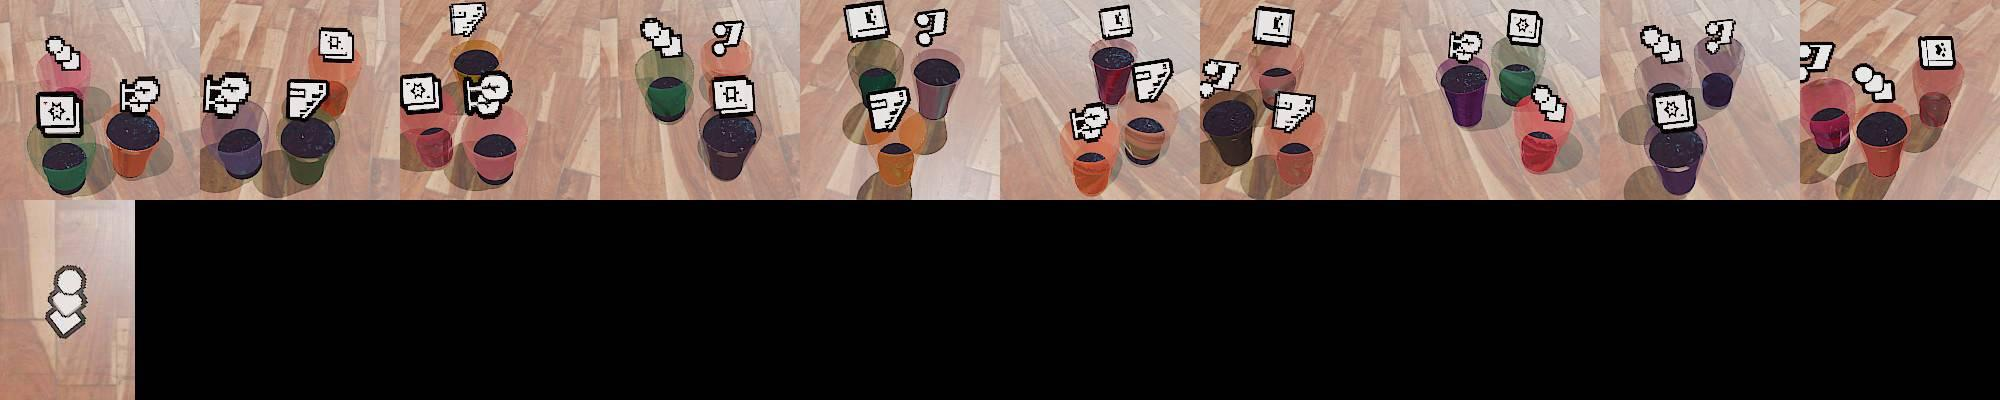icon: (45, 264, 87, 340), (462, 70, 513, 117), (202, 71, 253, 117), (865, 84, 909, 132), (1269, 89, 1316, 134), (36, 92, 82, 136), (638, 17, 684, 60), (399, 73, 443, 117), (1652, 89, 1698, 131), (843, 1, 889, 43), (1131, 57, 1173, 103), (1639, 24, 1684, 66), (286, 78, 329, 120), (710, 75, 755, 116), (1852, 62, 1897, 103), (1253, 5, 1295, 47), (1069, 101, 1111, 141), (119, 75, 161, 115), (1200, 59, 1241, 98), (1798, 41, 1835, 82), (912, 8, 949, 48), (1531, 84, 1569, 122), (449, 1, 487, 38), (318, 25, 355, 62), (46, 34, 83, 71), (1506, 9, 1542, 47), (710, 19, 745, 57), (1098, 5, 1134, 41), (1918, 36, 1957, 69), (1448, 29, 1483, 64), (1703, 19, 1737, 55)
